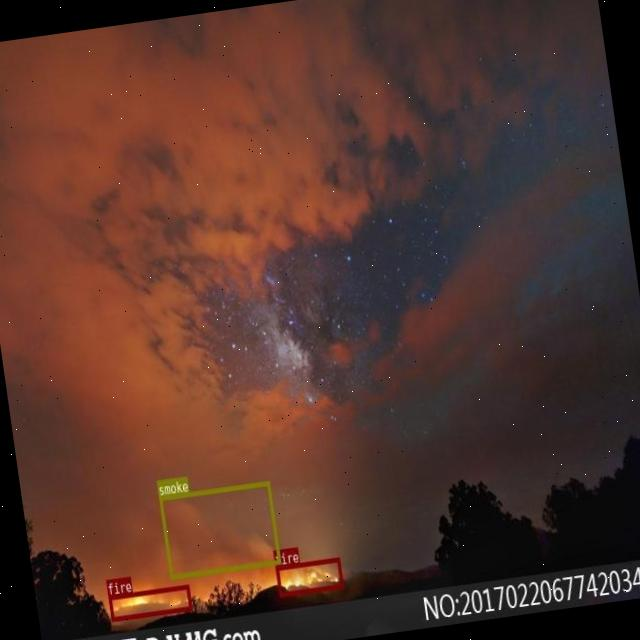fire: (108, 584, 191, 621), (276, 556, 344, 596)
smoke: (159, 480, 281, 580)
